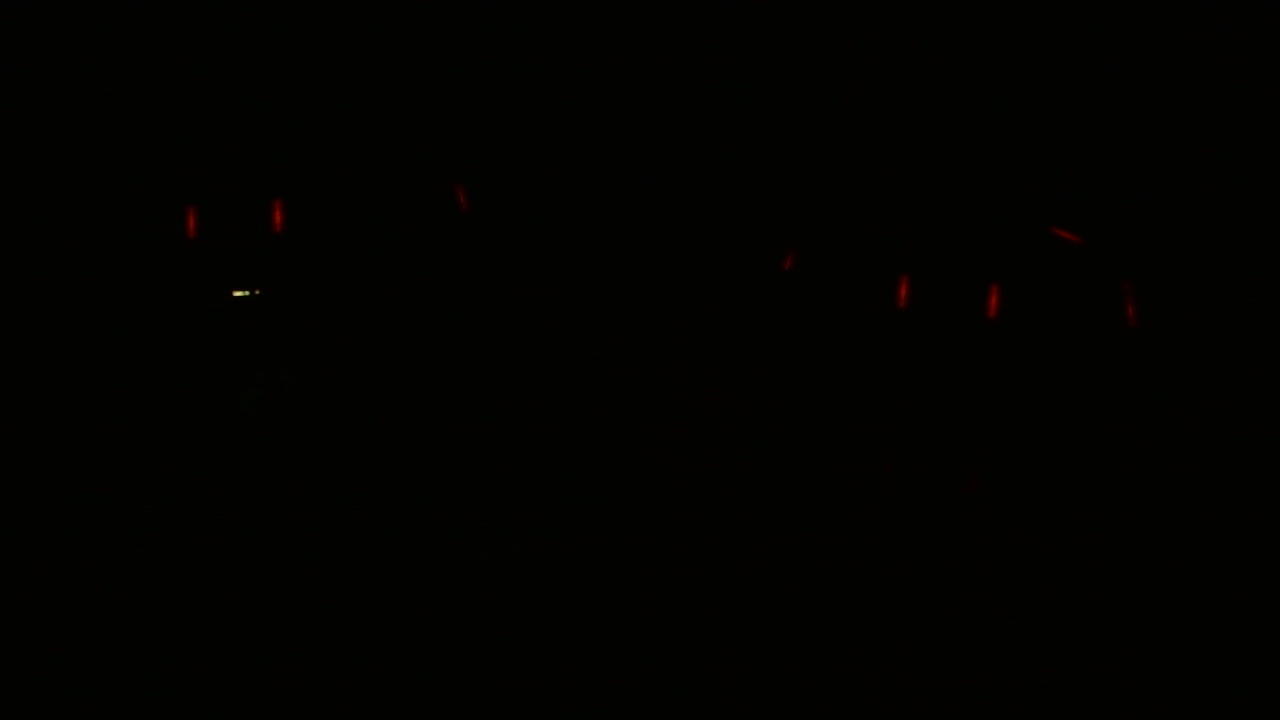pair1: (174, 192, 286, 240), (893, 270, 1004, 318)
